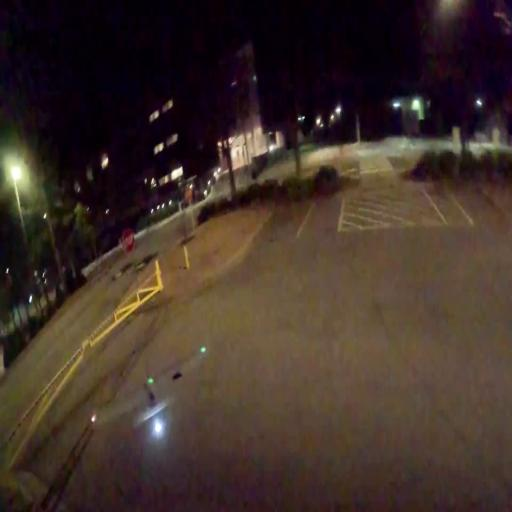uav: (87, 338, 211, 438)
